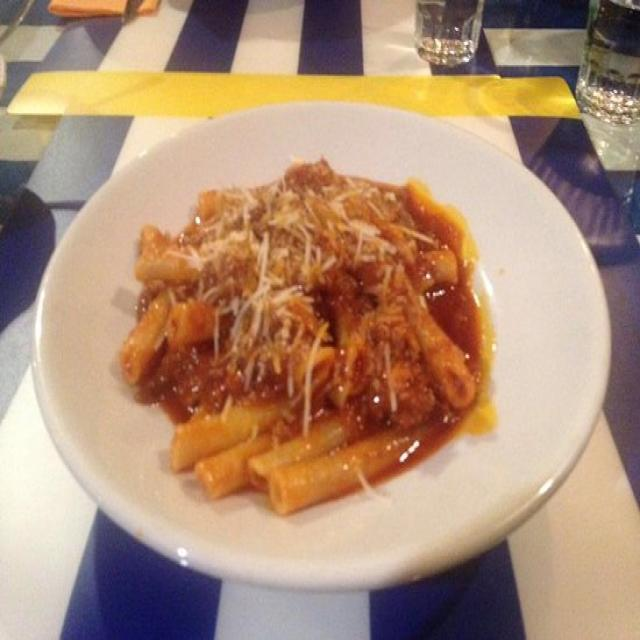Pasta al ragu: (102, 121, 522, 550)
